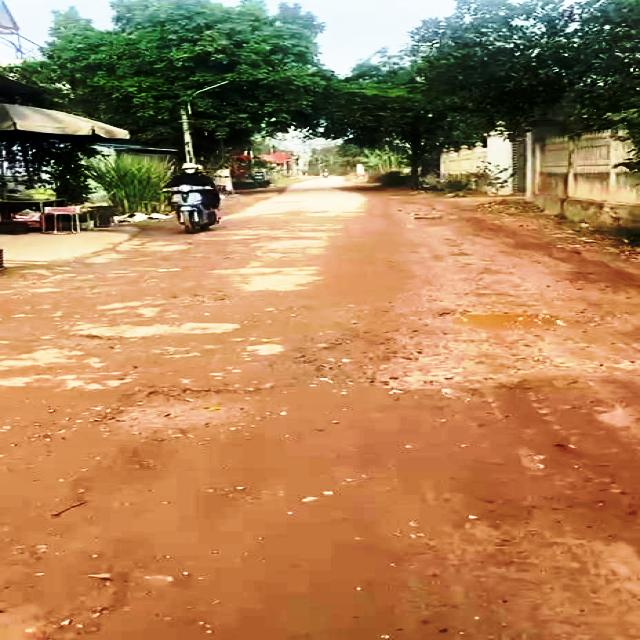pothole: (92, 381, 269, 435), (356, 358, 492, 392), (441, 310, 611, 332)
